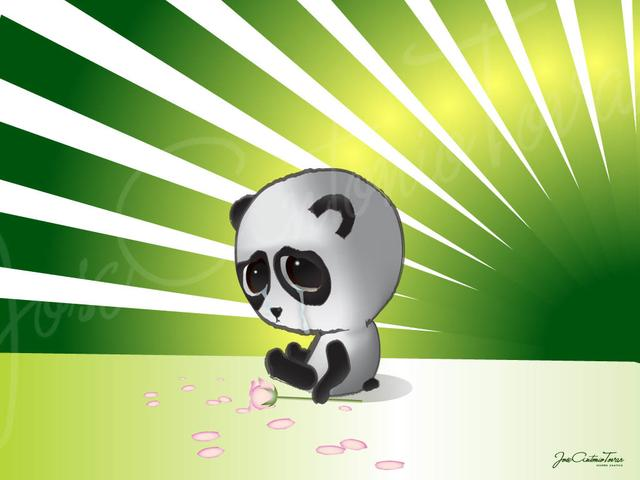panda: (184, 145, 437, 410)
